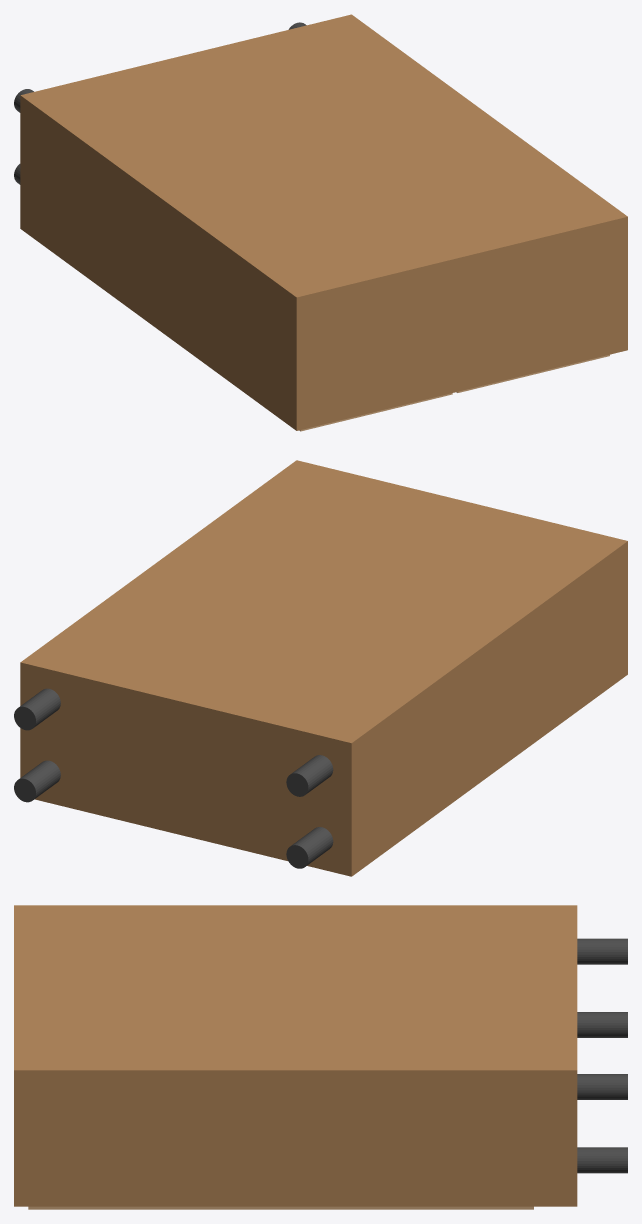
Rendered from cupboards.glb.
3 views of the same model, one above another, from view 1: azimuth 30°, elevation 25°; view 2: azimuth 150°, elevation 25°; view 3: azimuth 270°, elevation 25° (orthographic).
Visible parts, largest first — view 1: Body, world; view 2: Body, world, Leg; view 3: Body, world, Door, Leg.
Boxes of the visible parts, <box> form: Body: <box>20,14,627,430</box>; world: <box>14,89,452,431</box>; Body: <box>20,460,627,876</box>; world: <box>14,755,333,868</box>; Leg: <box>14,688,60,730</box>; Body: <box>14,905,577,1206</box>; world: <box>577,938,627,1173</box>; Door: <box>28,1206,533,1209</box>; Leg: <box>577,1074,627,1099</box>.
Bounding box in the file's own units: 1.35 × 0.57 × 2.12.
